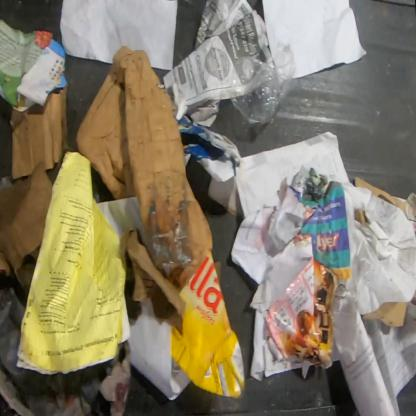cardboard: (75, 44, 214, 286), (169, 250, 246, 401), (174, 113, 244, 219), (0, 161, 53, 298), (118, 229, 186, 335), (8, 83, 70, 182), (354, 174, 406, 214), (362, 301, 409, 328), (354, 209, 370, 228)
soft_plastic: (228, 43, 296, 126)
